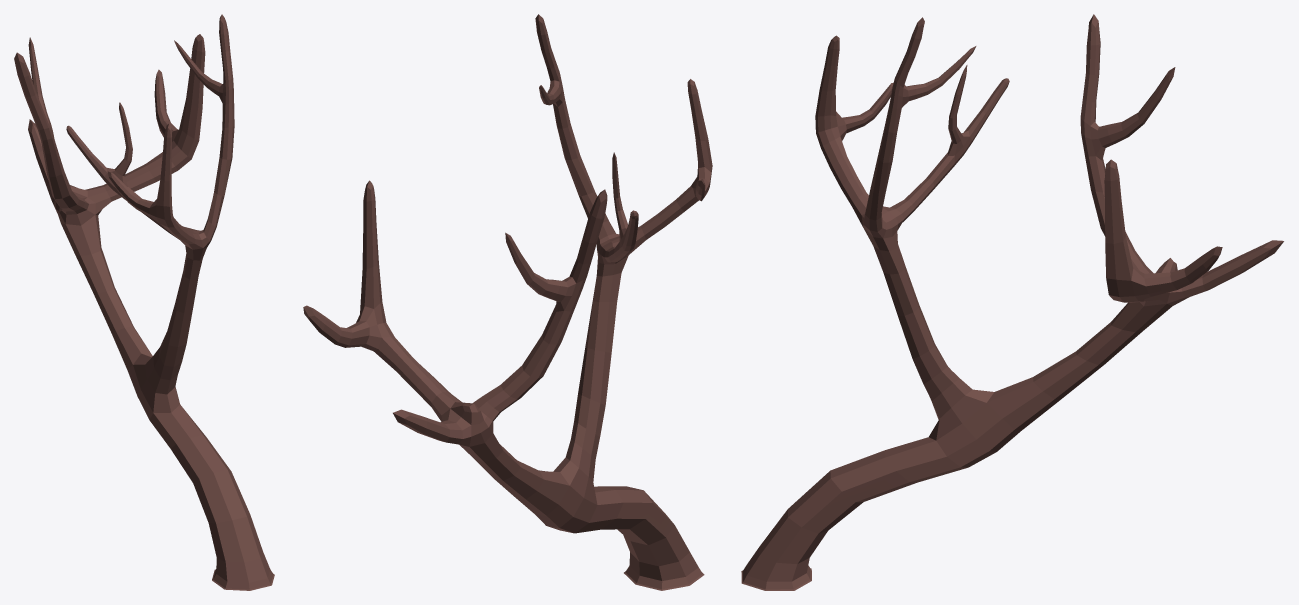
Rendered from willow_dead_2.glb.
3 views of the same model, side by side, from view 1: azimuth 30°, elevation 25°; view 2: azimuth 150°, elevation 25°; view 3: azimuth 270°, elevation 25° (orthographic). The views are drawn at different scales.
Visible parts, largest first — view 1: Willow_Dead_2; view 2: Willow_Dead_2; view 3: Willow_Dead_2.
Boxes of the visible parts, x1=… form: Willow_Dead_2: x1=14, y1=14, x2=274, y2=590; Willow_Dead_2: x1=303, y1=14, x2=712, y2=590; Willow_Dead_2: x1=741, y1=14, x2=1283, y2=590.
Size of the model in its own units: 1.17 by 2.84 by 2.4.
